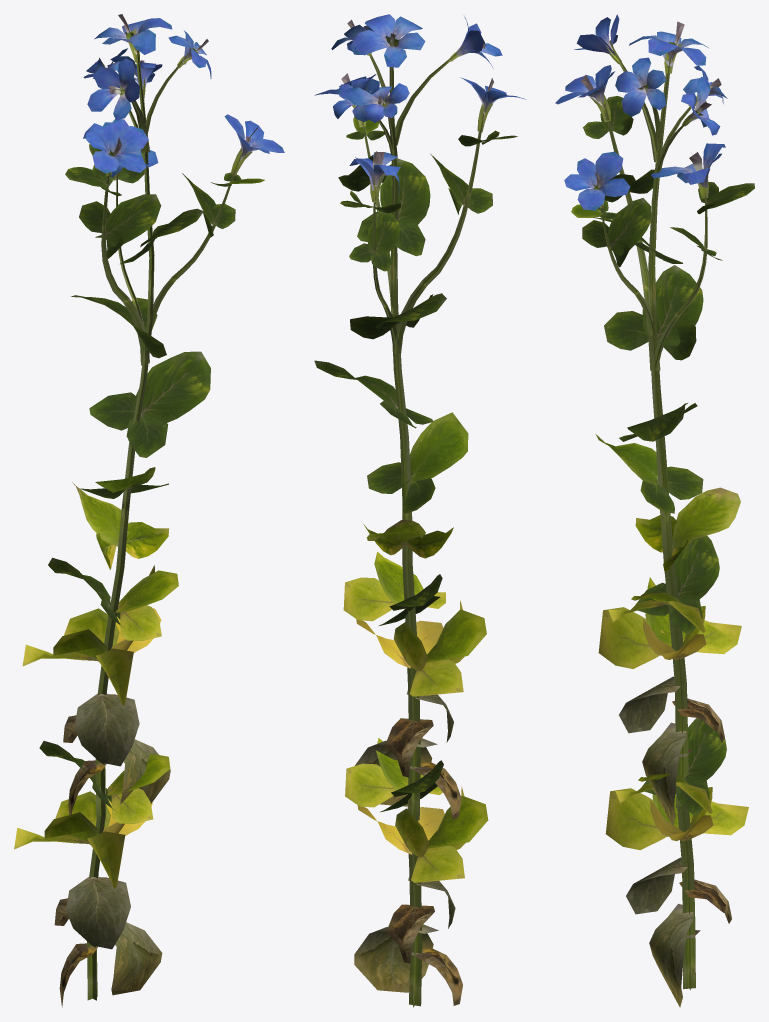
Rendered from Periwinkle_bush_long_deepblue.glb.
3 renders of one model, left to right at view 1: azimuth 30°, elevation 25°; view 2: azimuth 150°, elevation 25°; view 3: azimuth 270°, elevation 25°, orthographic.
Parts seen in each view (by area): view 1: _b868_Var1_LOD1.2; view 2: _b868_Var1_LOD1.2; view 3: _b868_Var1_LOD1.2.
Part boxes in pixels (box(x1,y1,x2,y2)): _b868_Var1_LOD1.2: box(14, 14, 284, 1007); _b868_Var1_LOD1.2: box(314, 14, 525, 1007); _b868_Var1_LOD1.2: box(555, 14, 754, 1007).
Size of the model in its own units: 0.7607 by 3.45 by 0.6398.
Materials: 1 (1 with a texture image).
